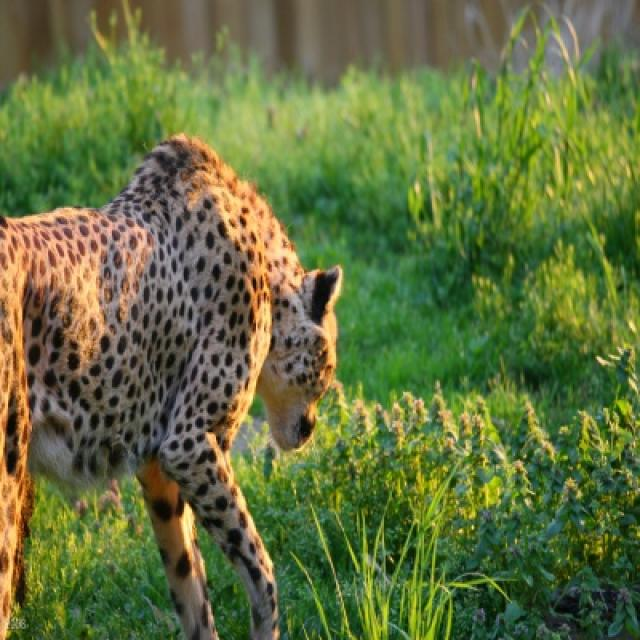Cheetah: (0, 134, 341, 638)
